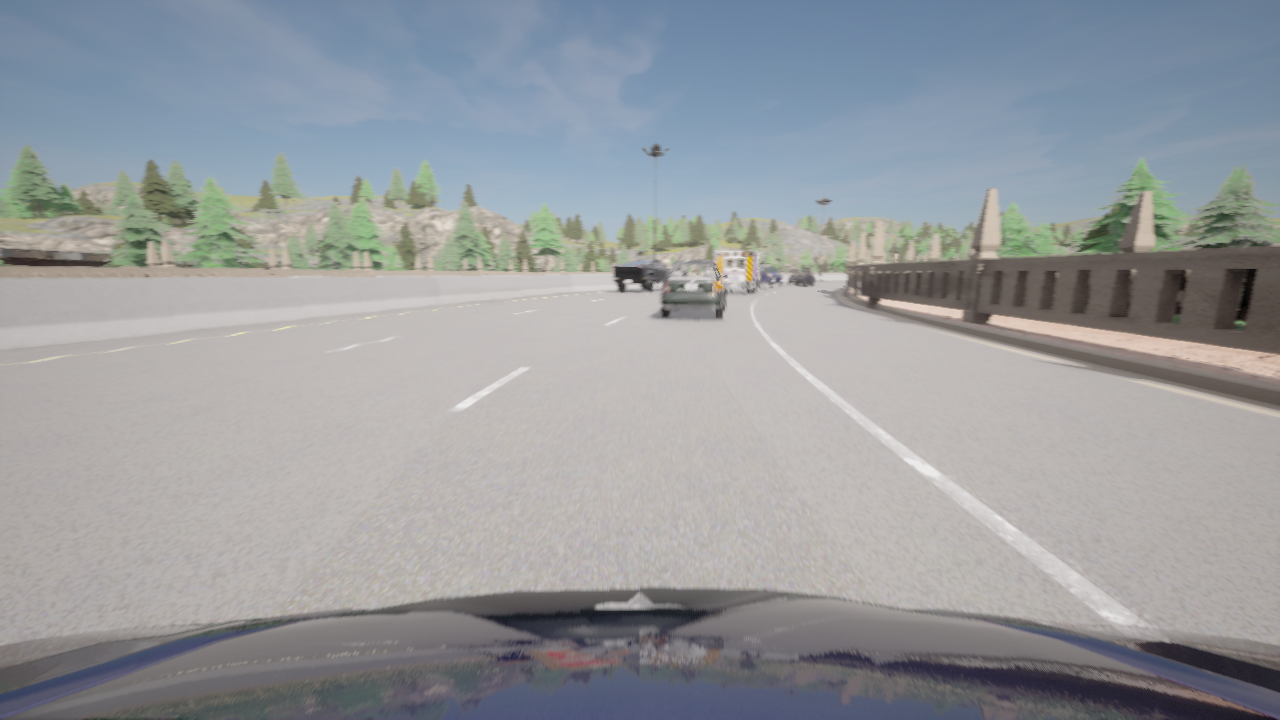cyclist: (0, 588, 1279, 719), (659, 261, 727, 318), (714, 250, 763, 293), (612, 260, 669, 291), (787, 270, 814, 285), (760, 267, 781, 282)
